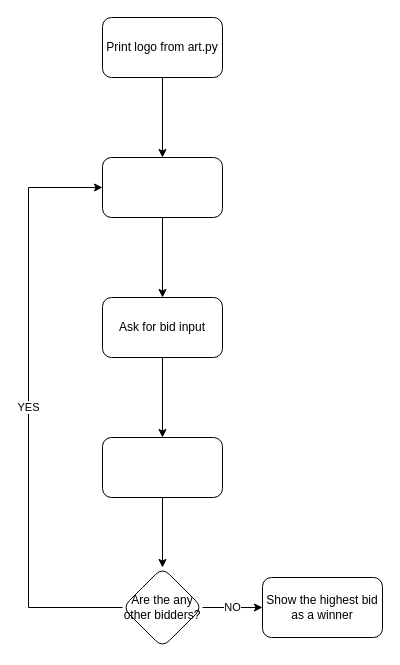
This 400x665 diagram has some shape labels left out. Here are the shapes that lost their labels. From the top down, the centre of each, then its label:
(x=162, y=187): Ask for name input
(x=162, y=467): Dictionary "name" = key "bid" = value
